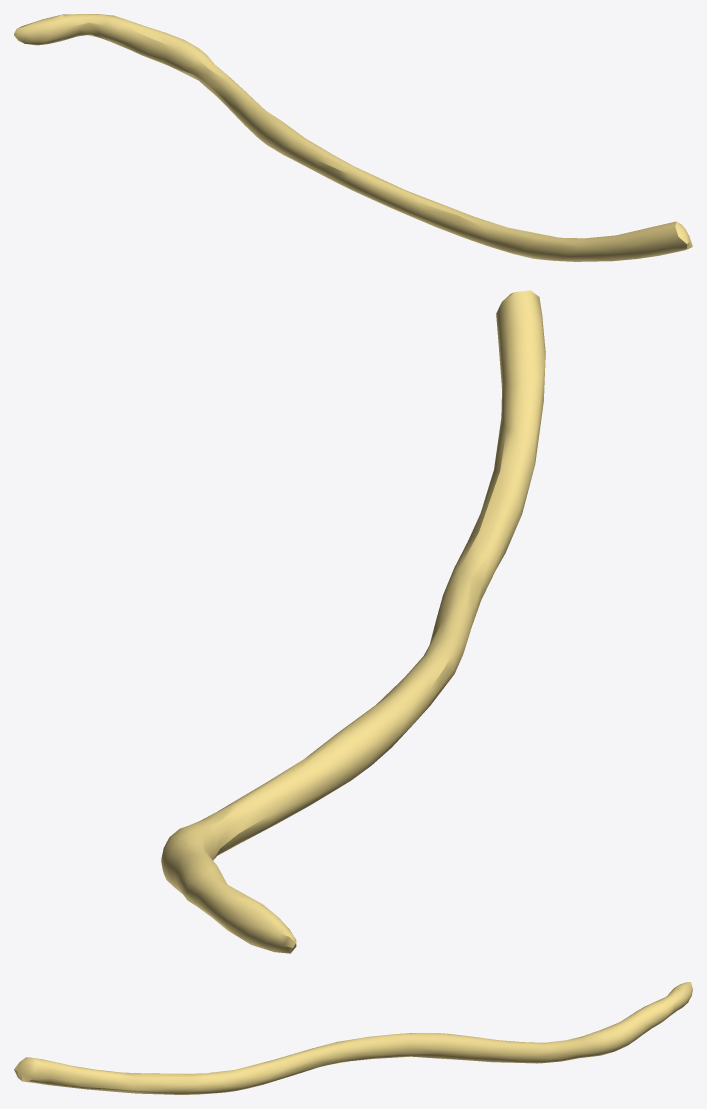
File: fma288202_mm2726.glb
3 renders of one model, top to bottom at view 1: azimuth 30°, elevation 25°; view 2: azimuth 150°, elevation 25°; view 3: azimuth 270°, elevation 25°, orthographic. The views are drawn at different scales.
Parts seen in each view (by area): view 1: FMA288202_MM2726; view 2: FMA288202_MM2726; view 3: FMA288202_MM2726.
Boxes of the visible parts, x1=… form: FMA288202_MM2726: x1=14, y1=14, x2=692, y2=261; FMA288202_MM2726: x1=161, y1=290, x2=545, y2=953; FMA288202_MM2726: x1=14, y1=982, x2=692, y2=1094.
Size of the model in its own units: 0.0266 by 0.00762 by 0.0688.
